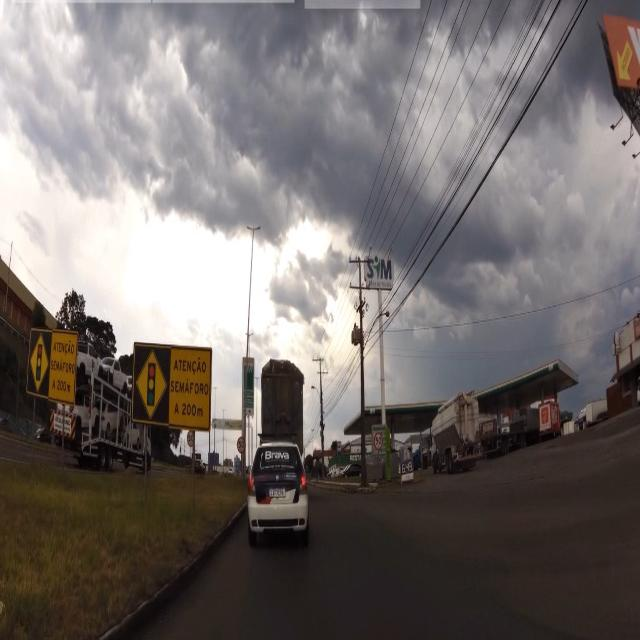A-14: (136, 349, 168, 416), (31, 333, 49, 392)
